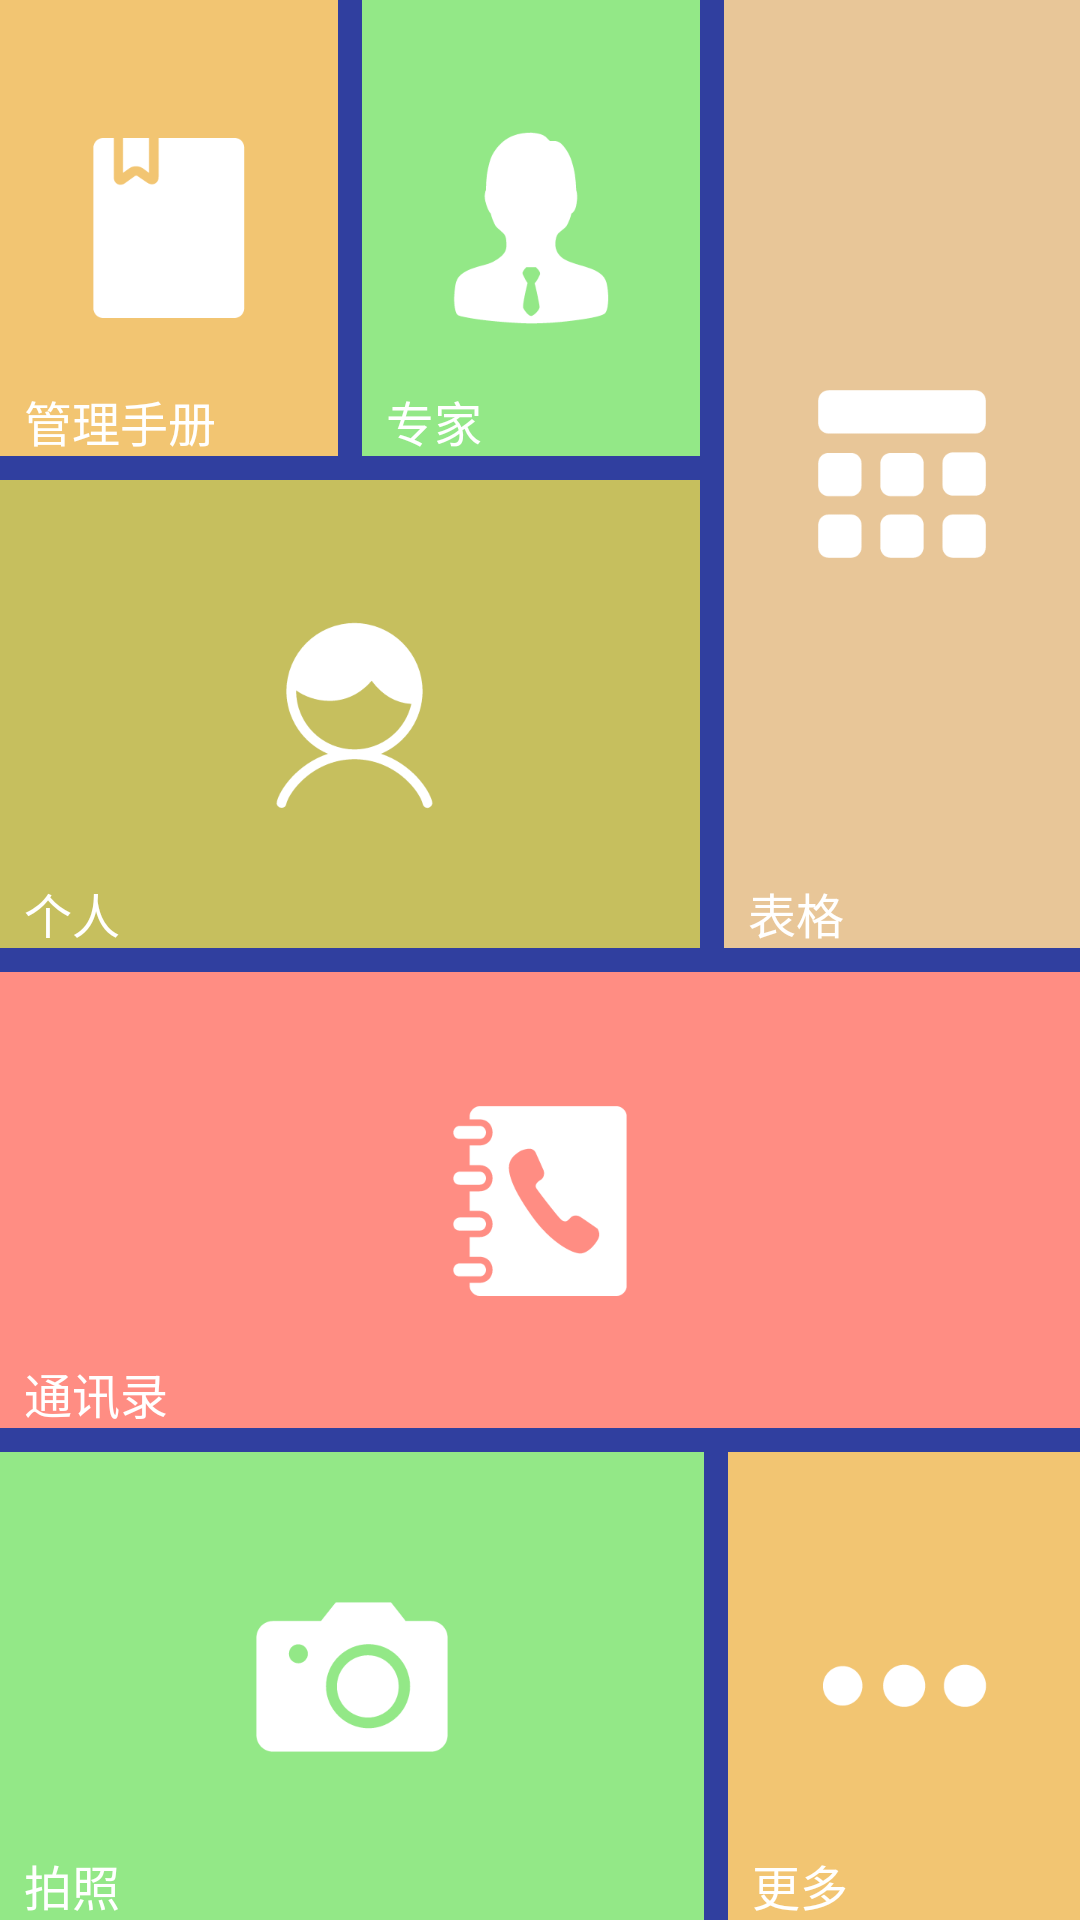

Named icons in this screenshot (1080w x 1920h) and their bounding boxes, [x1, y1, x2, y2]:
book: [93, 138, 245, 318]
maillist: [453, 1106, 627, 1296]
more: [823, 1664, 986, 1707]
photograph: [256, 1602, 448, 1752]
professor: [454, 132, 608, 324]
student: [276, 623, 433, 808]
table: [818, 390, 986, 558]
